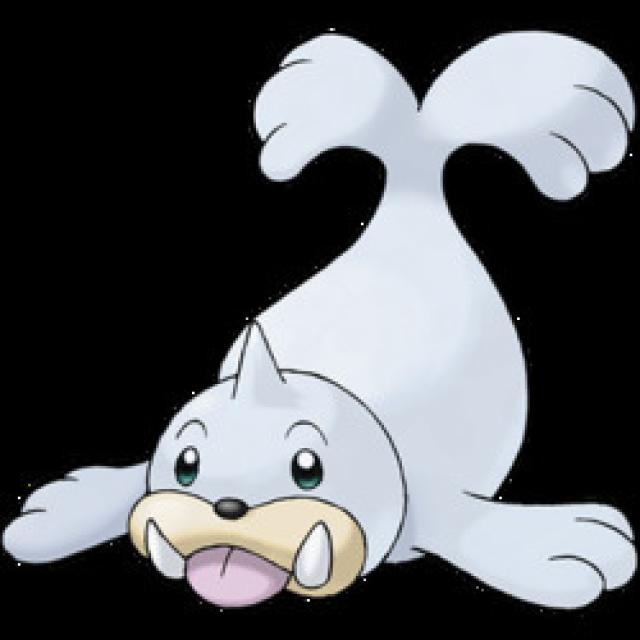Seel: (172, 90, 566, 612)
